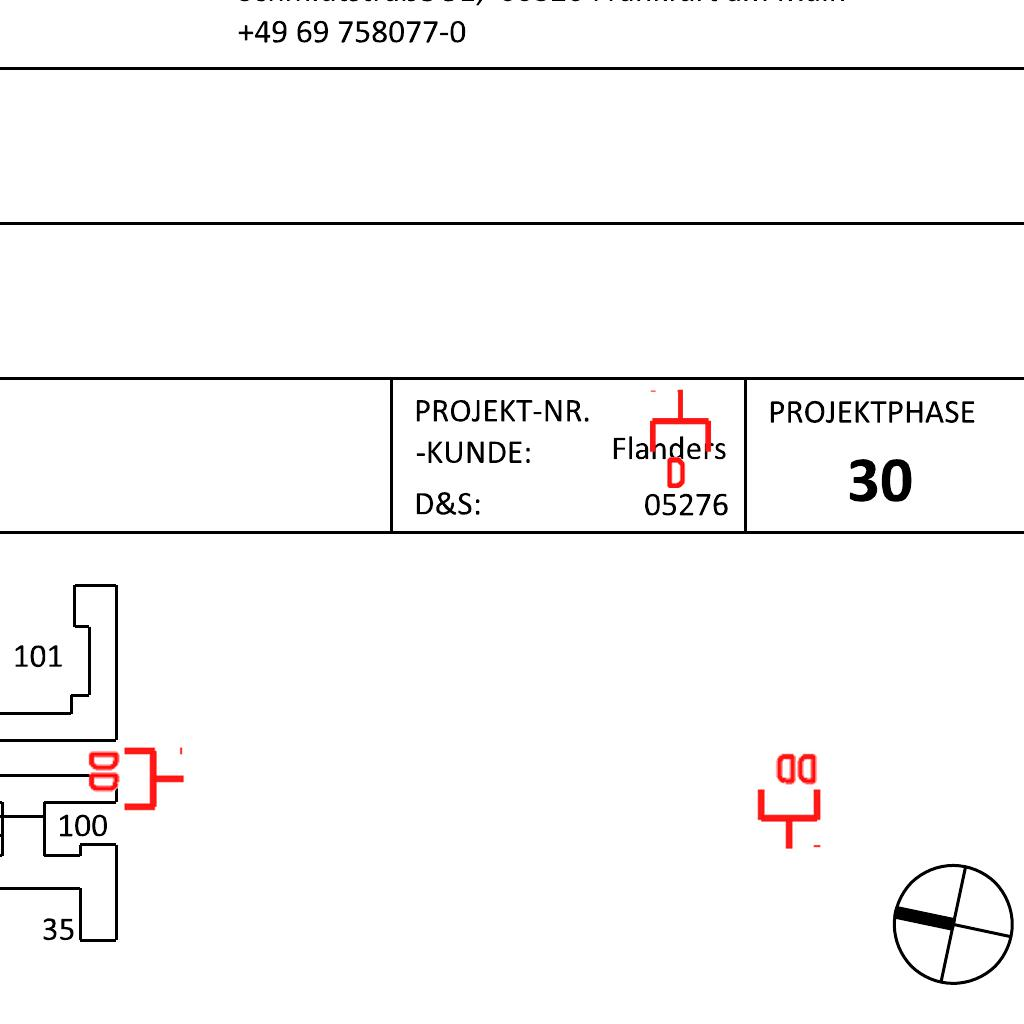Datenanschluss_einfach: (646, 388, 715, 488)
Datenanschluss_zweifach: (753, 749, 822, 852), (84, 746, 187, 815)
